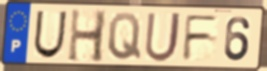6: (224, 15, 251, 63)
F: (181, 13, 221, 63)
H: (66, 7, 109, 64)
Q: (106, 11, 143, 62)
U: (142, 11, 183, 64), (32, 9, 69, 60)
